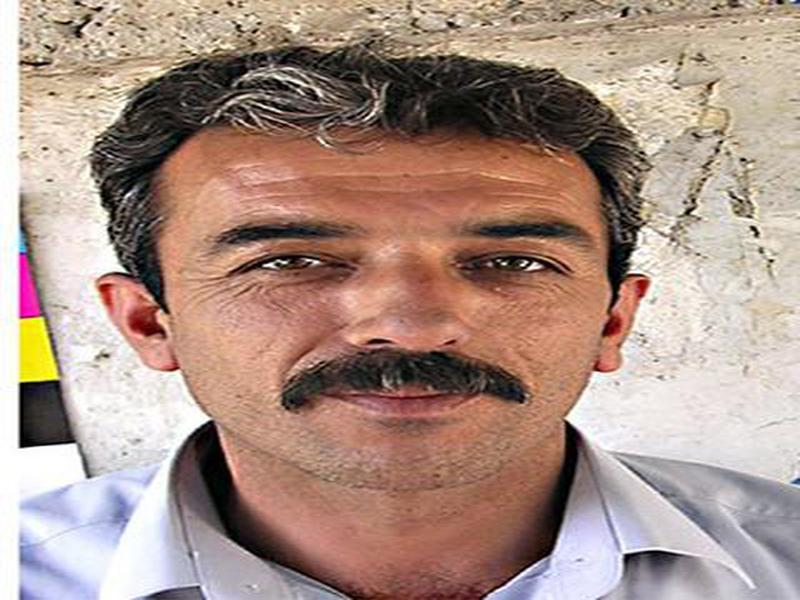without_mask: (153, 144, 616, 499)
